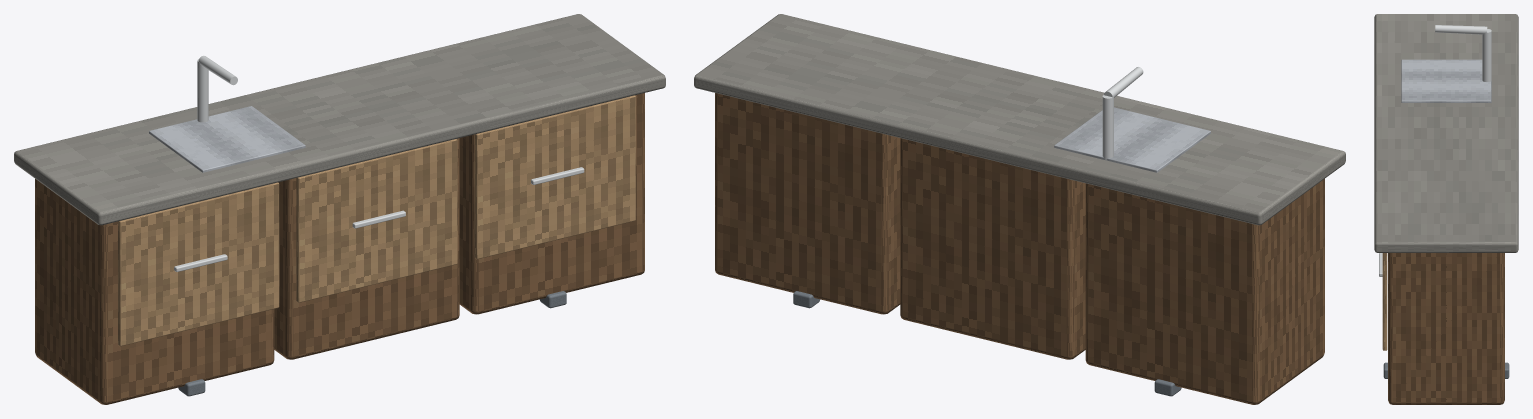
Rendered from kitchenette_base01.glb.
The picture shows the model from 3 angles, left to right: view 1: azimuth 30°, elevation 25°; view 2: azimuth 150°, elevation 25°; view 3: azimuth 270°, elevation 25°; orthographic projection. The views are drawn at different scales.
Visible parts, largest first — view 1: drawer_front, cabinet_body, countertop, sink_rim, drawer_handle, tap, feet; view 2: cabinet_body, countertop, sink_rim, tap, feet; view 3: countertop, cabinet_body, sink_rim, drawer_front, tap, spout, feet.
Boxes of the visible parts, x1,y1,x2,y2 form: drawer_front: (118,95,635,346); cabinet_body: (35,93,644,404); countertop: (14,14,665,225); sink_rim: (149,106,305,172); drawer_handle: (174,167,584,271); tap: (197,59,208,122); feet: (178,291,566,396); cabinet_body: (715,93,1324,404); countertop: (694,14,1345,225); sink_rim: (1054,107,1210,172); tap: (1102,95,1113,160); feet: (793,291,1181,396); countertop: (1374,14,1518,252); cabinet_body: (1388,253,1504,404); sink_rim: (1401,59,1491,102); drawer_front: (1382,253,1387,350); tap: (1482,28,1491,81); spout: (1435,25,1487,34); feet: (1383,362,1509,378).
Size of the model in its own units: 2.42 by 1.14 by 0.64.
7 materials, 6 textured.
